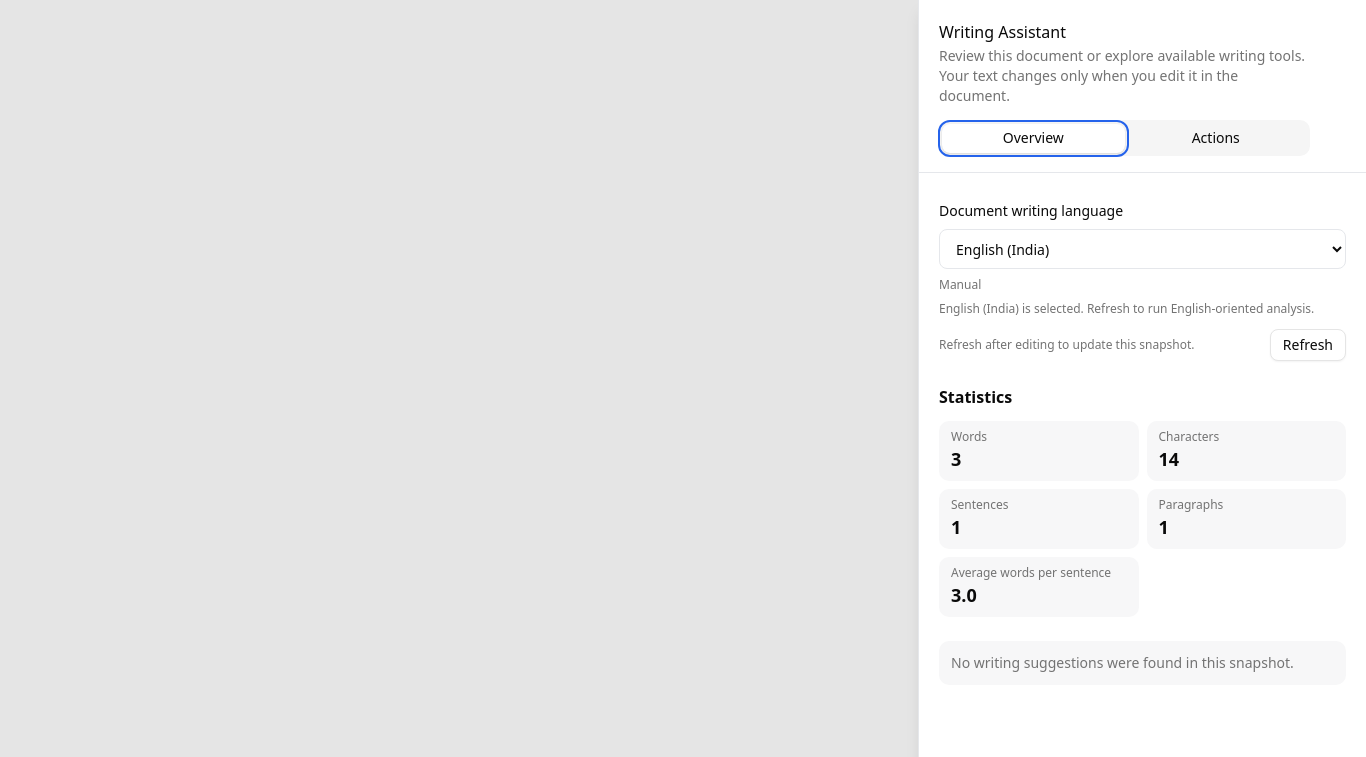
Test: WritingAssistantPanel › refreshes only on request and analyzes the latest document text
The width and height of the screenshot is (1366, 757).
Check: the text "No writing suggestions were found in this snapshot." is shown, box [939,641,1346,685]
Click the button "Refresh" at (1308, 345), box [1270,329,1346,361]
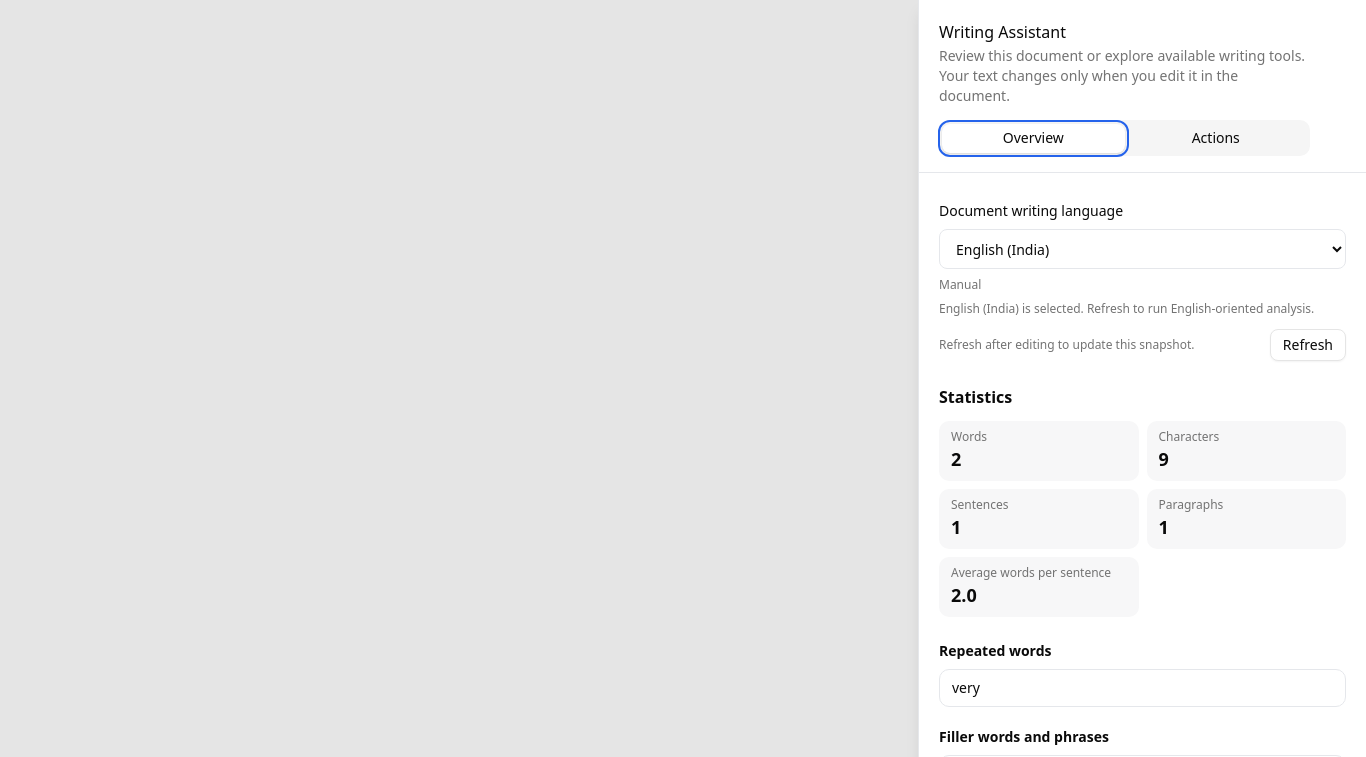
Check: the heading "Repeated words" is shown, box [939,641,1052,660]
